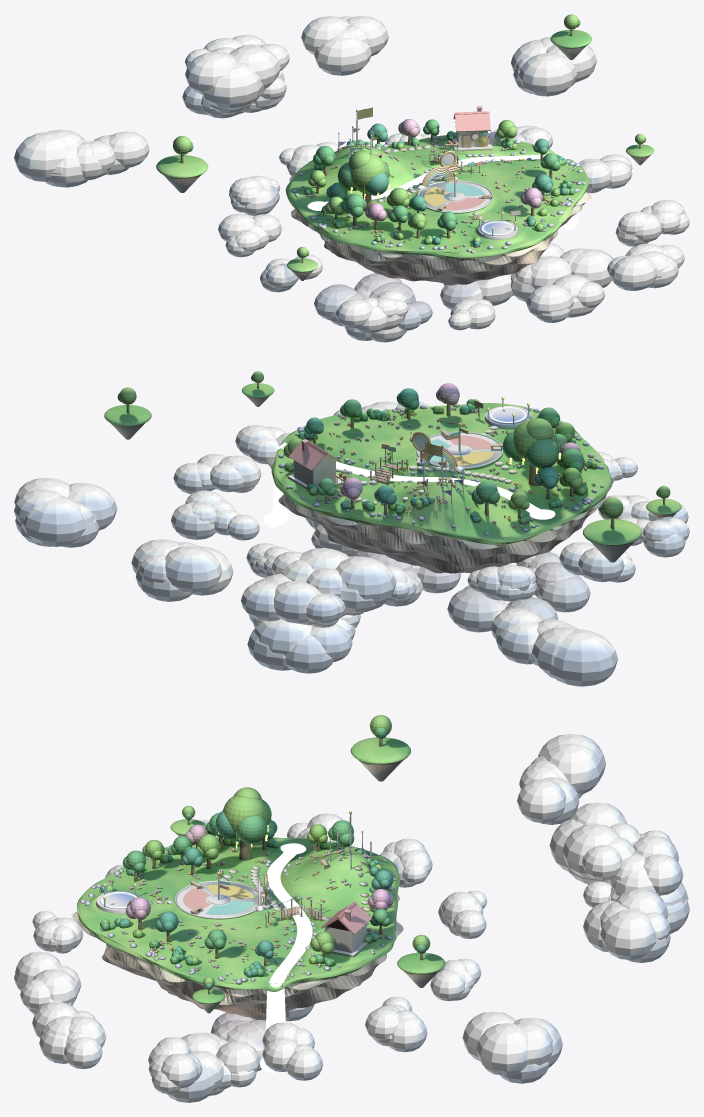
The model's file is island.glb.
3 views of the same model, one above another, from view 1: azimuth 30°, elevation 25°; view 2: azimuth 150°, elevation 25°; view 3: azimuth 270°, elevation 25° (orthographic). The views are drawn at different scales.
Visible parts, largest first — view 1: BK_clouds, BK_island, BK_trees, BK_mini, BK_plaza, BK_bushes, BK_shop, BK_flowers, EM_water, BK_rocks, BK_arrive, BK_bridge; view 2: BK_clouds, BK_island, BK_trees, BK_mini, BK_plaza, BK_bushes, BK_shop, EM_water, BK_flowers, BK_rocks, BK_bridge, BK_arrive (+2 smaller); view 3: BK_clouds, BK_island, BK_trees, BK_mini, EM_water, BK_plaza, BK_bushes, BK_shop, BK_flowers, BK_rocks, BK_arrive, BK_bridge (+1 smaller).
Part boxes in pixels (x1,y1,x2,y2): BK_clouds: (14, 16, 689, 342); BK_island: (285, 135, 591, 285); BK_trees: (308, 119, 560, 238); BK_mini: (156, 14, 654, 280); BK_plaza: (417, 167, 493, 213); BK_bushes: (304, 131, 574, 247); BK_shop: (445, 106, 501, 151); BK_flowers: (298, 137, 578, 248); EM_water: (307, 153, 578, 230); BK_rocks: (292, 135, 585, 253); BK_arrive: (477, 210, 520, 239); BK_bridge: (429, 149, 482, 178); BK_clouds: (14, 401, 689, 686); BK_island: (267, 403, 612, 573); BK_trees: (283, 383, 584, 518); BK_mini: (104, 371, 681, 562); BK_plaza: (416, 422, 503, 472); BK_bushes: (284, 399, 597, 524); BK_shop: (287, 438, 348, 488); EM_water: (264, 442, 555, 527); BK_flowers: (288, 406, 595, 527); BK_rocks: (278, 403, 603, 535); BK_bridge: (370, 431, 430, 484); BK_arrive: (474, 396, 531, 428); BK_clouds: (14, 734, 689, 1102); BK_island: (72, 837, 403, 1018); BK_trees: (122, 787, 393, 966); BK_mini: (170, 715, 445, 1013); EM_water: (260, 843, 312, 1073); BK_plaza: (174, 871, 263, 919); BK_bushes: (100, 838, 385, 977); BK_shop: (321, 901, 371, 957); BK_flowers: (99, 844, 382, 976); BK_rocks: (80, 838, 395, 984); BK_arrive: (96, 883, 141, 913); BK_bridge: (261, 874, 321, 927).
Size of the model in its own units: 72.94 by 24.79 by 66.81.
Materials: 21 (14 with a texture image).
